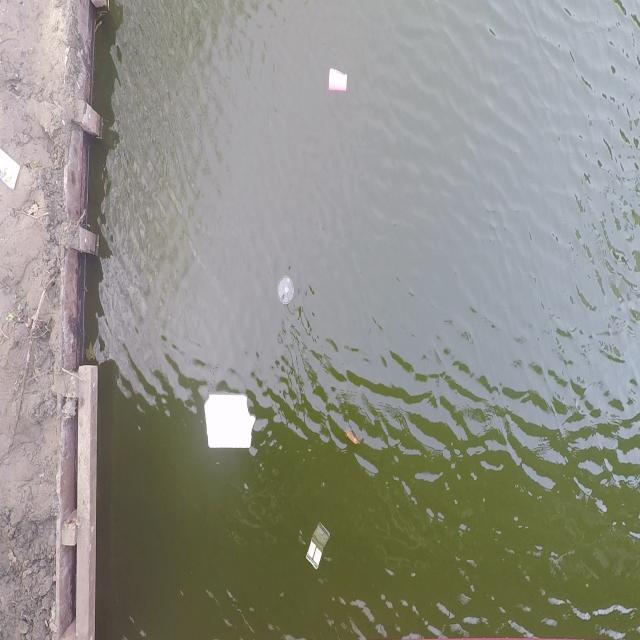Autre plastique: (303, 512, 335, 578), (323, 66, 355, 100), (273, 271, 299, 312)
